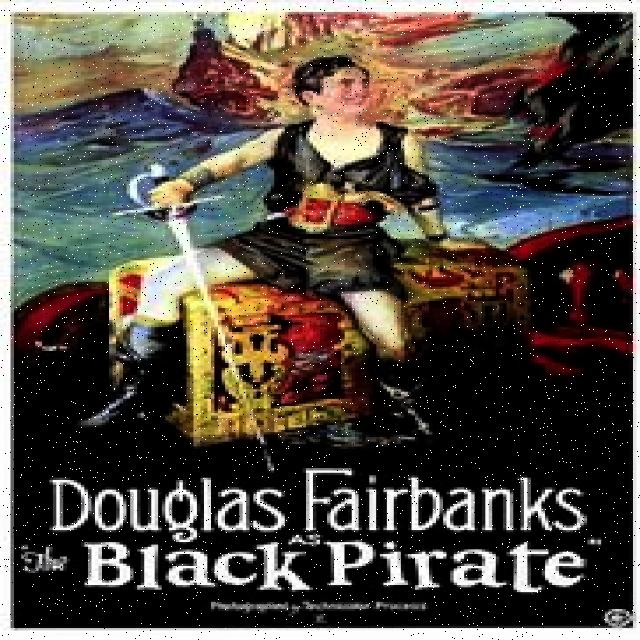movie-judul: (25, 462, 624, 620)
picture: (14, 13, 640, 474)
